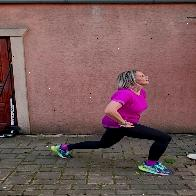lunges: (31, 64, 182, 182)
